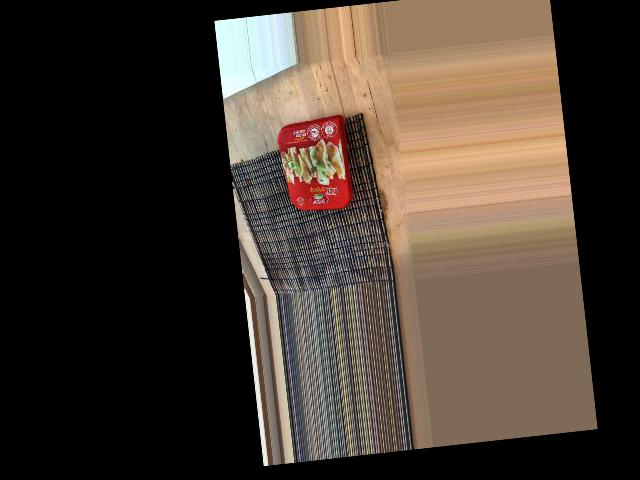cheese: (273, 95, 359, 219)
